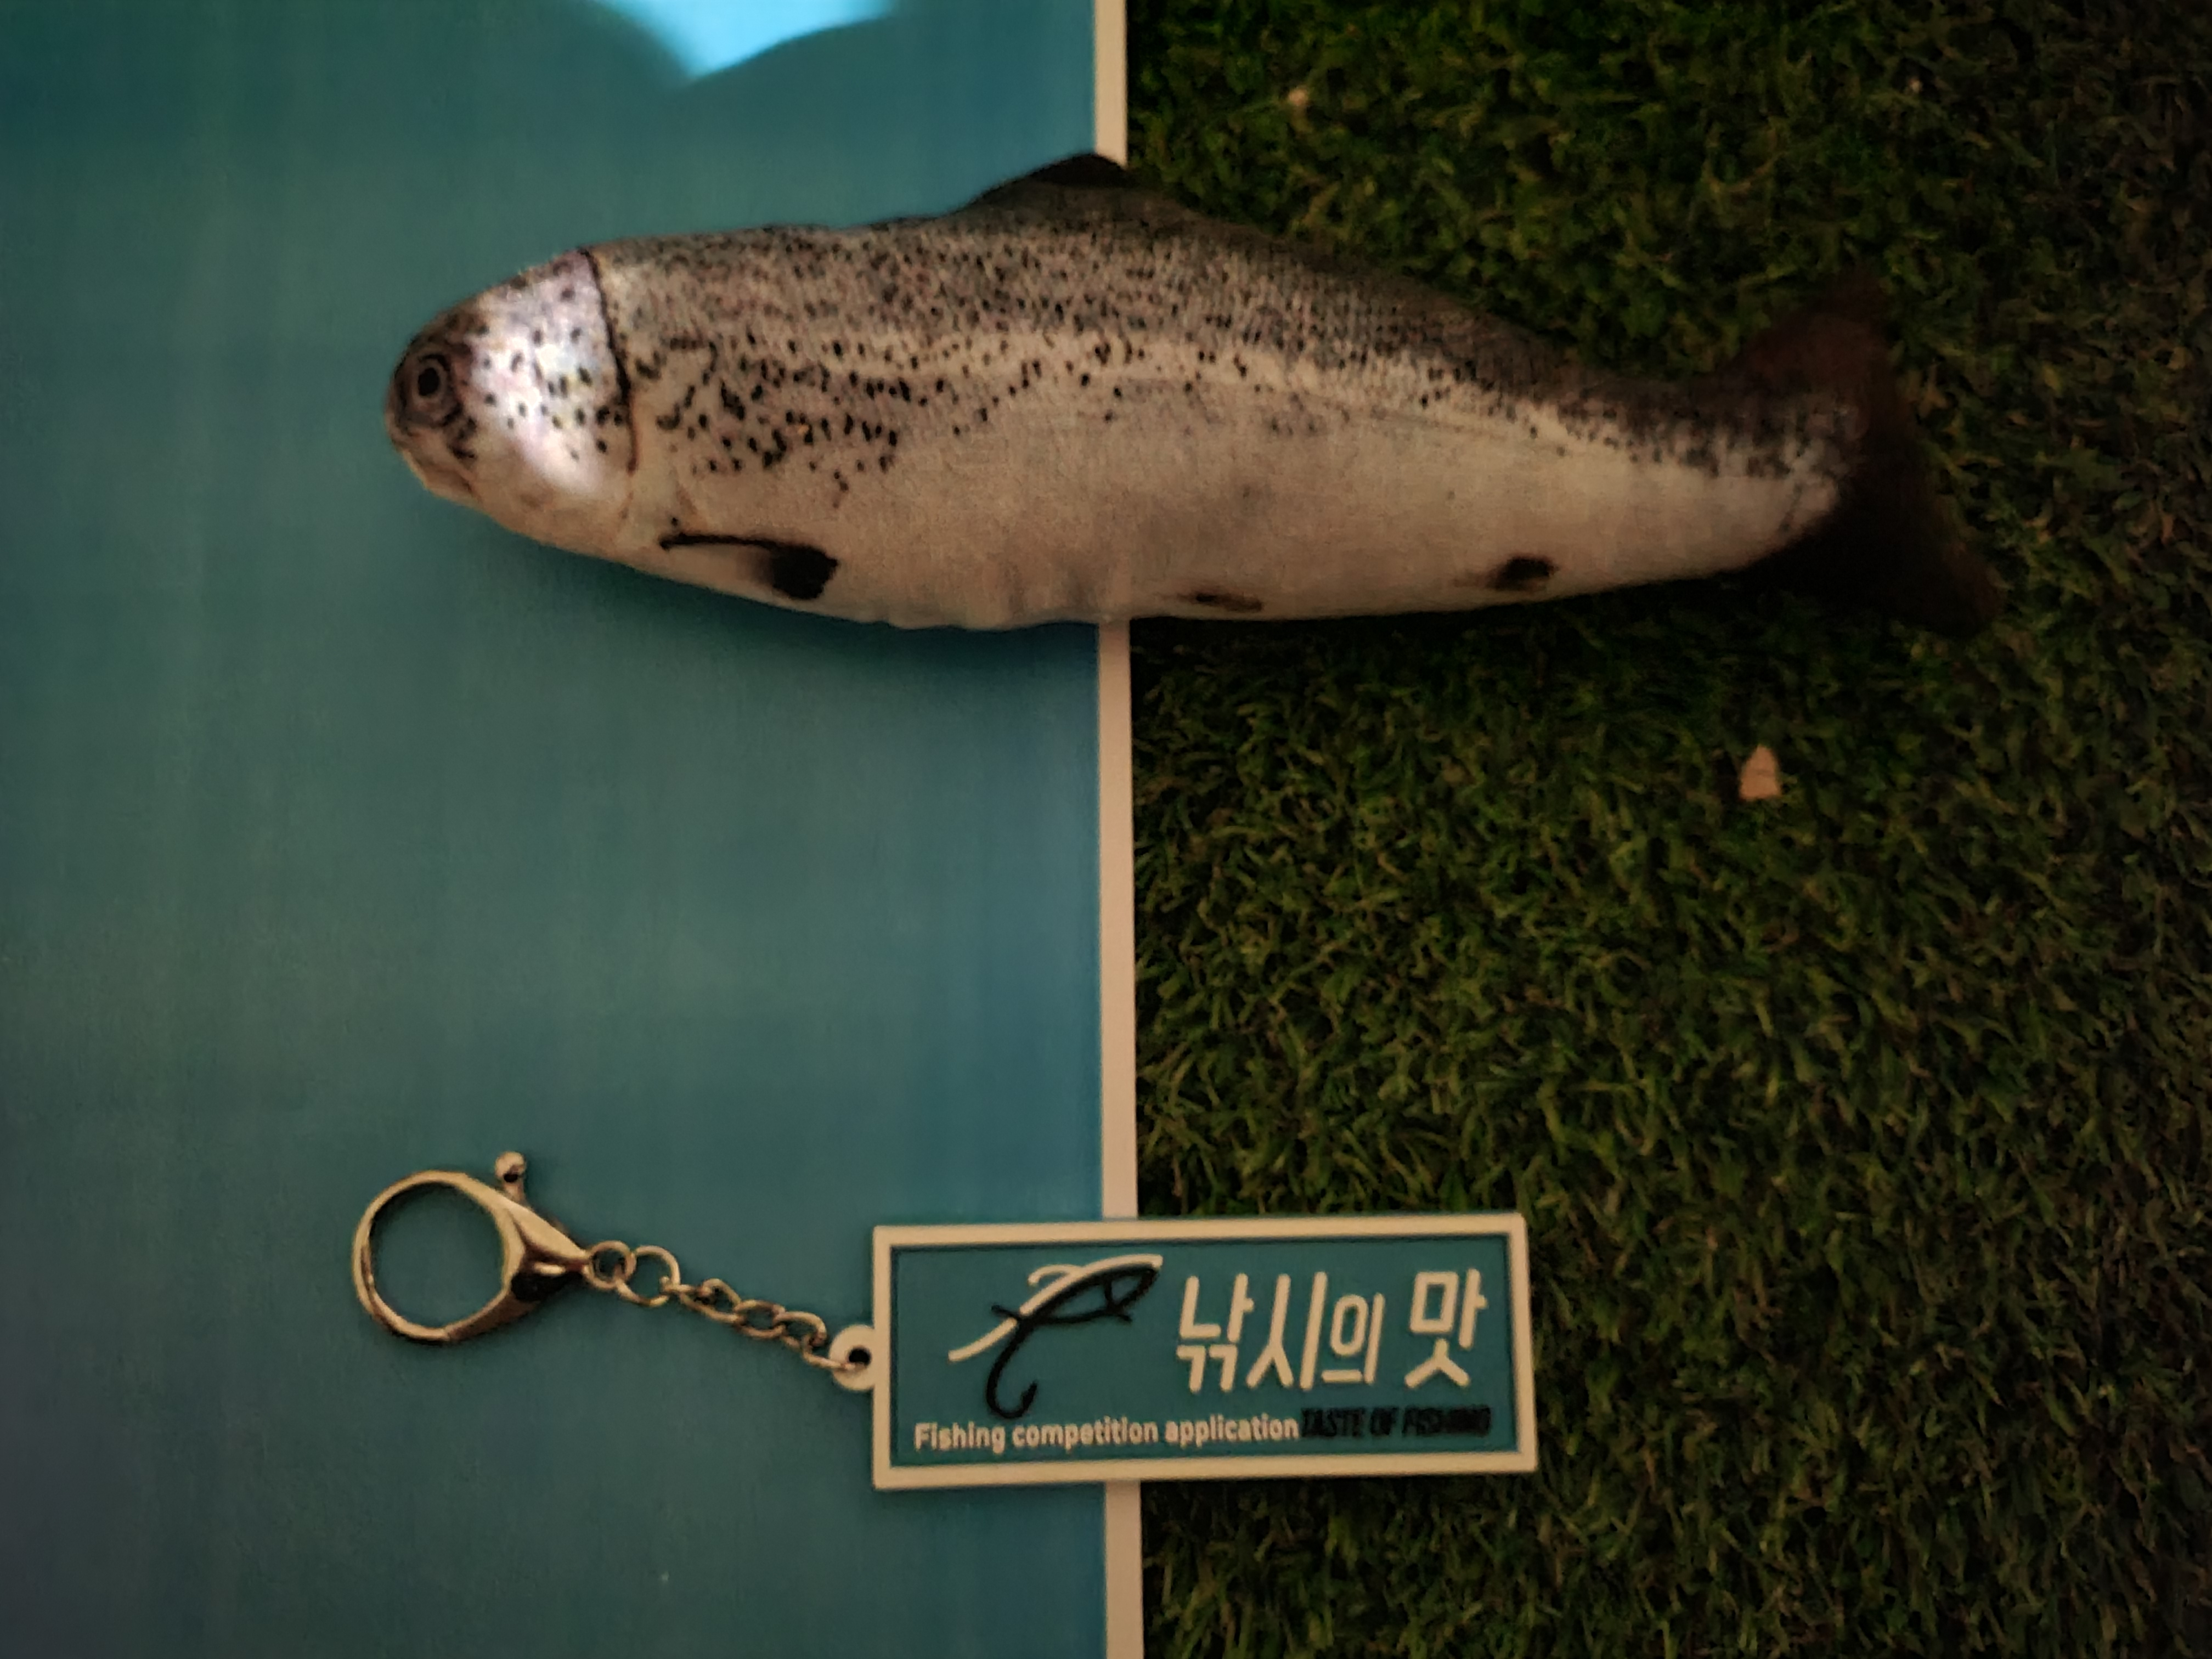fish: (387, 153, 1991, 640)
tag: (873, 1215, 1540, 1488)
